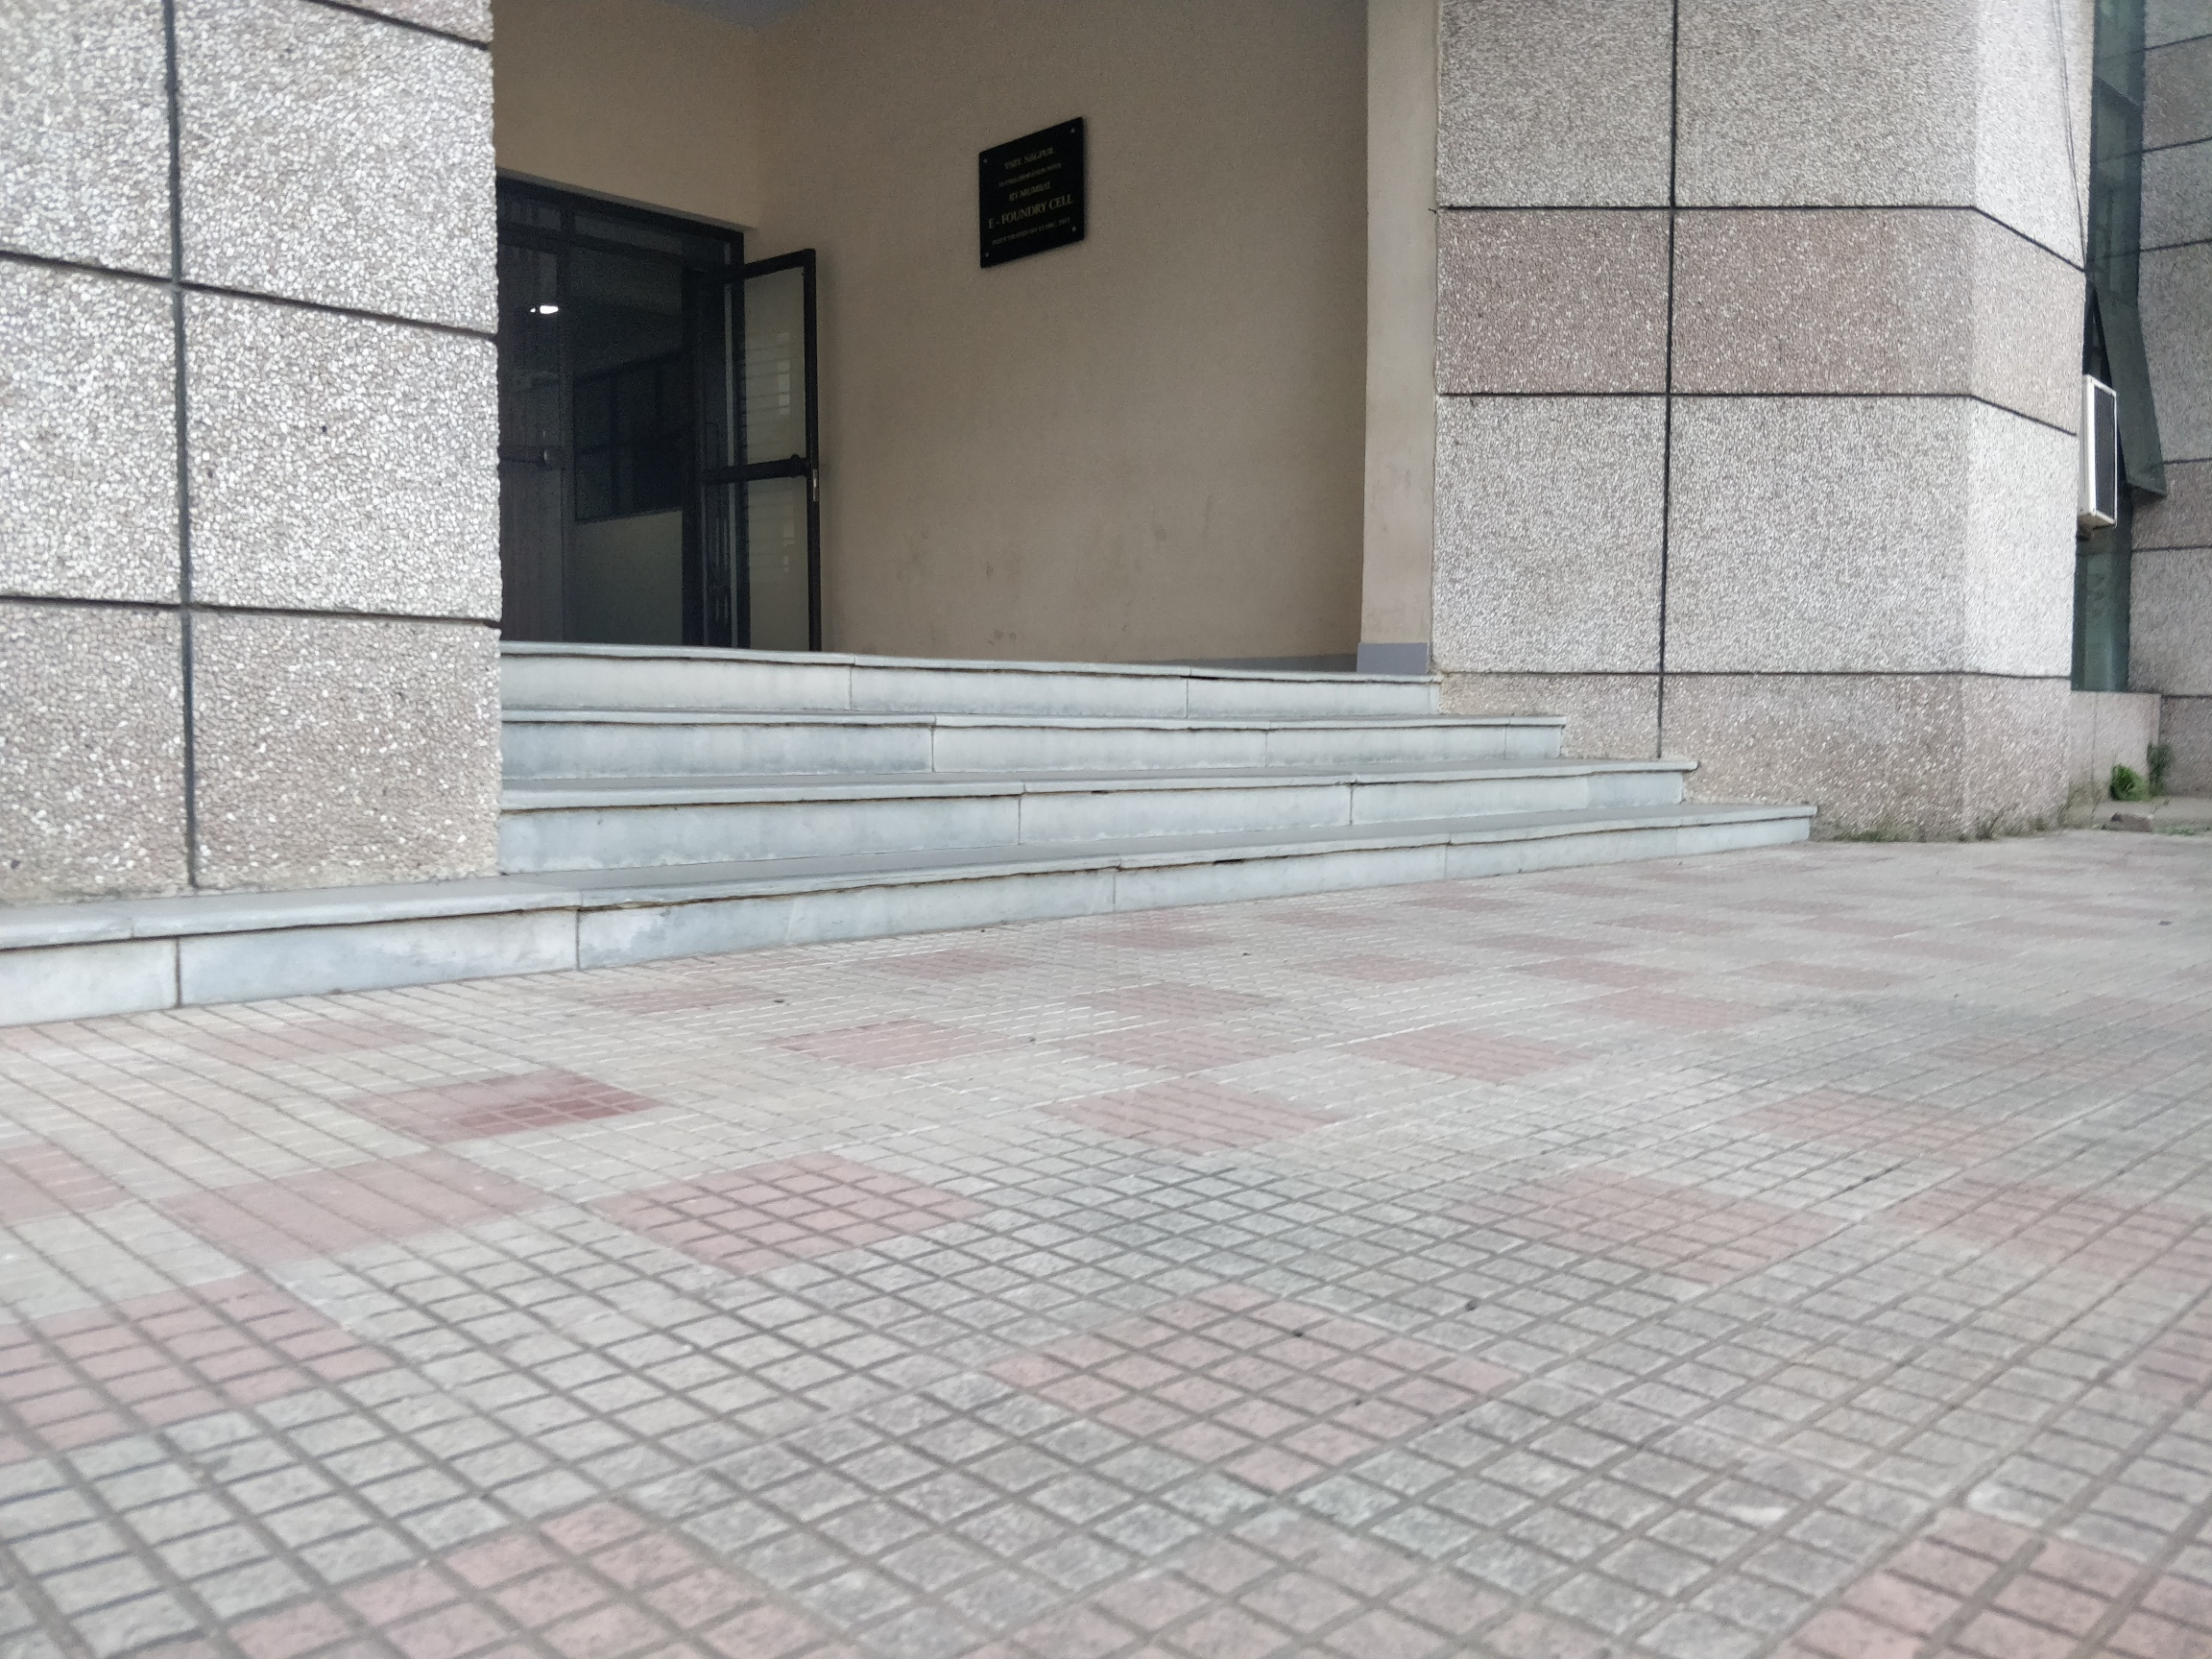stairs_up: (496, 640, 1759, 892)
